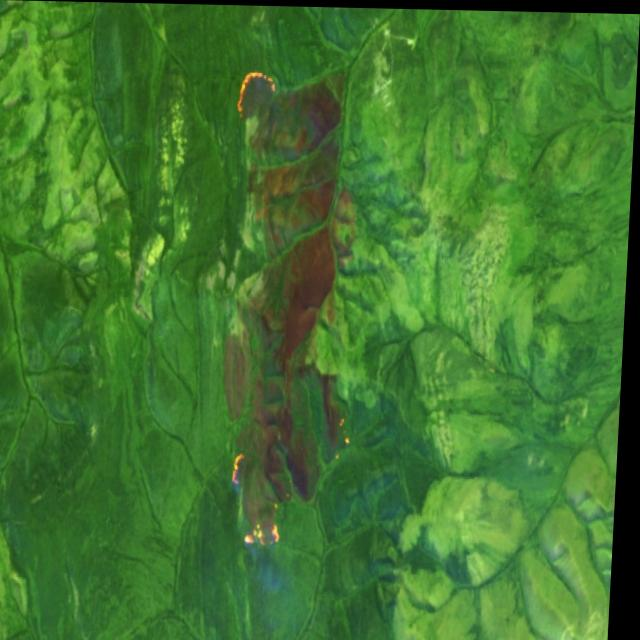fire: (232, 449, 292, 550), (224, 62, 289, 118), (337, 414, 358, 461)
